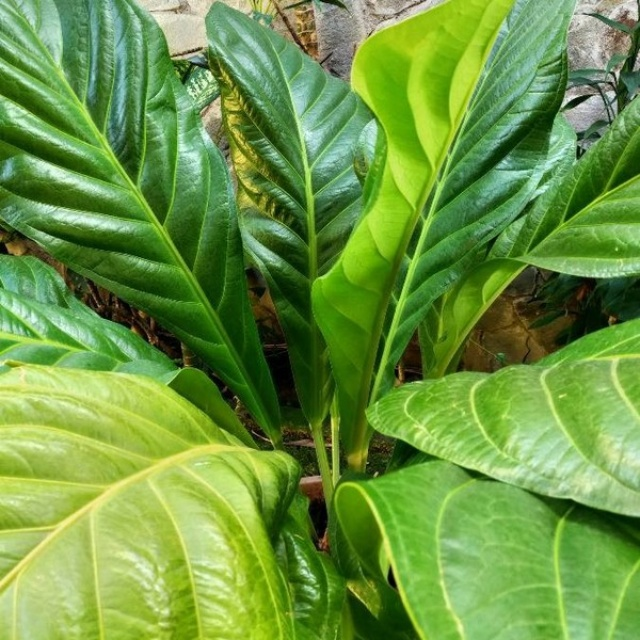obstacle: (49, 37, 607, 620)
